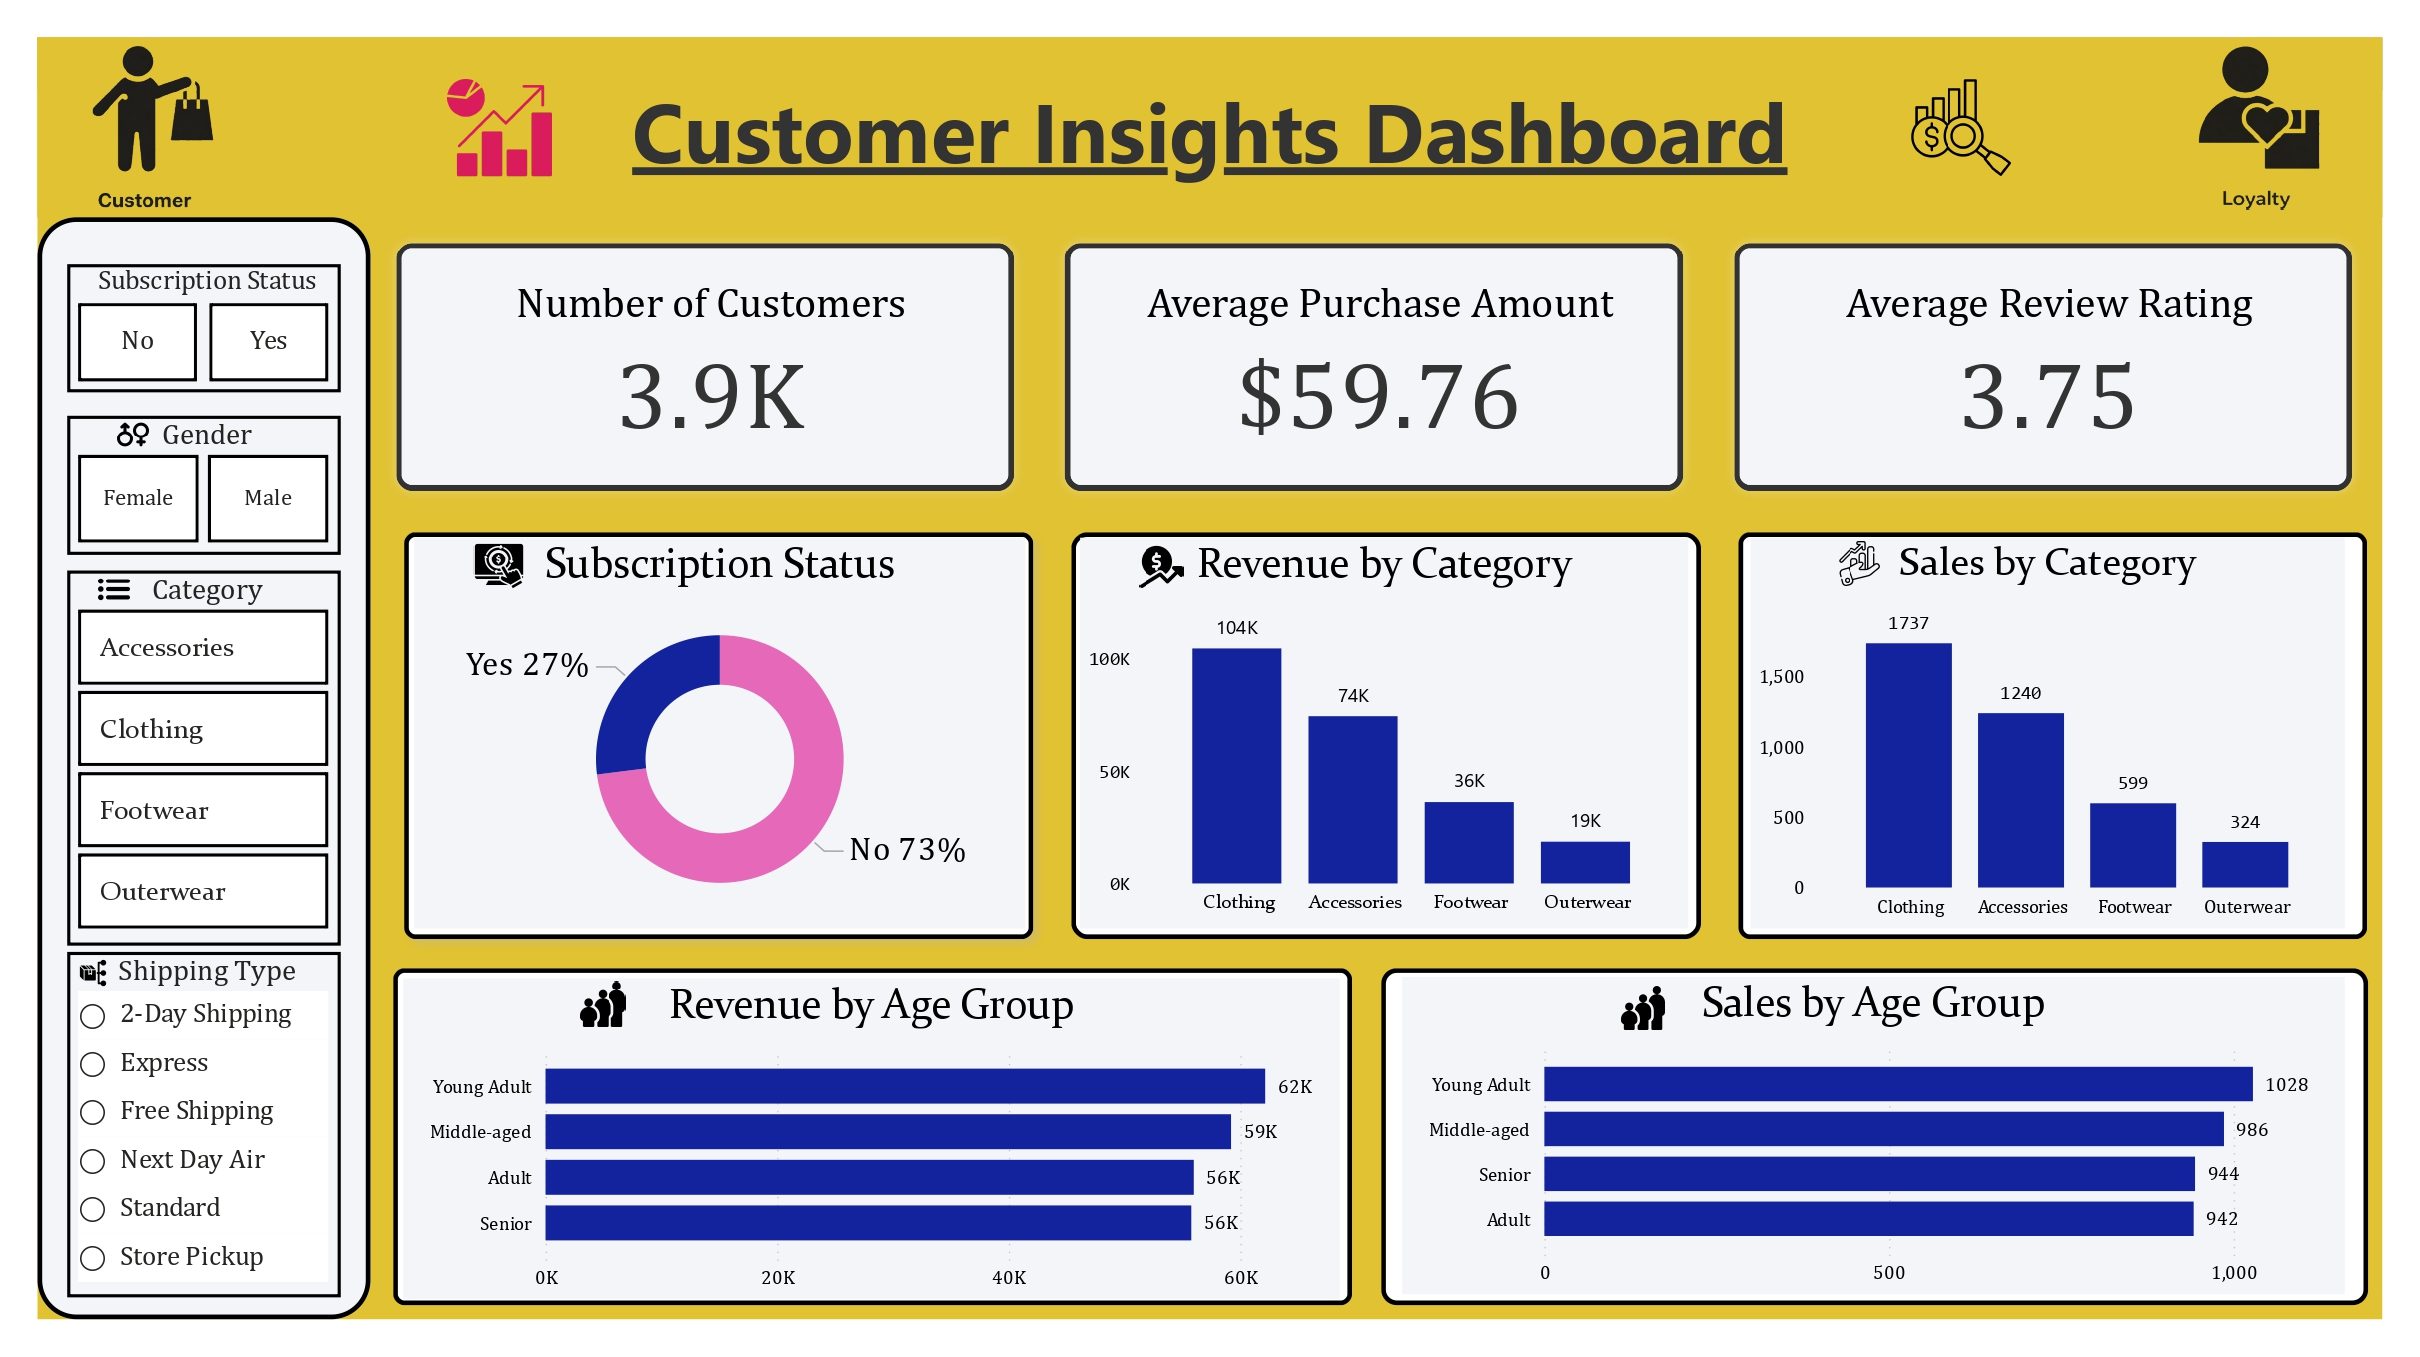

The page's visual inventory and layout, read from the dashboard file:
{"tool":"powerbi","page":{"name":"Customer Insights Dashboard","canvas":[1500,820],"ordinal":0},"visuals":[{"type":"cardVisual","fields":{"Data":["public customer.Number of Customers","public customer.Average Purchase Amount","public customer.Average Review Rating"]},"box":[212.9,115.3,1286.5,191.6],"z":0},{"type":"shape","box":[0,0,1500.4,115.4],"z":1000},{"type":"shape","box":[225.4,307,420.5,278.6],"z":2000},{"type":"shape","box":[218.3,585.6,631.7,234.2],"z":2500,"group":"g1"},{"type":"donutChart","title":"Subscription Status","fields":{"Category":["public customer.subscription_status"],"Y":["CountNonNull(public customer.customer_id)"]},"box":[240.9,320.3,391.3,249.3],"z":3000},{"type":"shape","box":[1078.9,307,420.5,278.6],"z":4000},{"type":"shape","box":[652.1,307,420.5,278.6],"z":5000},{"type":"clusteredColumnChart","title":"Revenue by Category","fields":{"Y":["Sum(public customer.purchase_amount)"],"Category":["public customer.category"]},"box":[667.1,320.3,388.6,249.3],"z":6000},{"type":"clusteredColumnChart","title":"Sales by Category","fields":{"Y":["CountNonNull(public customer.customer_id)"],"Category":["public customer.category"]},"box":[1096,320.3,380.2,249.3],"z":7000},{"type":"shape","box":[0,115.3,212.9,704.5],"z":8000},{"type":"advancedSlicerVisual","fields":{"Values":["public customer.subscription_status"]},"box":[19.5,144.8,174.1,82.2],"z":9000},{"type":"advancedSlicerVisual","fields":{"Values":["public customer.gender"]},"box":[19.5,242.3,174.1,89.1],"z":10000},{"type":"advancedSlicerVisual","fields":{"Values":["public customer.category"]},"box":[19.5,341.2,174.1,239.5],"z":11000},{"type":"listSlicer","fields":{"Values":["public customer.shipping_type"]},"box":[19.5,584.9,174.1,221.4],"z":12000},{"type":"shape","box":[850,585.7,650,234.3],"z":13000},{"type":"clusteredBarChart","title":"Sales by Age Group","fields":{"Y":["CountNonNull(public customer.customer_id)"],"Category":["public customer.age_group"]},"box":[872.9,601.4,602.9,202.9],"z":14000},{"type":"group","id":"g1","title":"Group 1","box":[218.3,585.6,631.7,234.2],"z":15000},{"type":"image","box":[240.5,19.2,109.9,76.9],"z":16000},{"type":"image","box":[1174.8,19.2,109.9,76.9],"z":17000},{"type":"clusteredBarChart","title":"Revenue by Age Group","fields":{"Y":["Sum(public customer.purchase_amount)"],"Category":["public customer.age_group"]},"box":[234.7,601.5,598.8,204.7],"z":17500,"group":"g1"},{"type":"image","box":[27.5,338,44,30.2],"z":18000},{"type":"image","box":[19.2,584,33,28.9],"z":19000},{"type":"image","box":[42.6,239.1,35.7,30.2],"z":20000},{"type":"image","box":[258.3,317.4,72.8,41.2],"z":21000},{"type":"image","box":[331.1,599.1,60.5,38.5],"z":22000},{"type":"image","box":[687,318.8,63.2,38.5],"z":23000},{"type":"image","box":[1140.4,317.4,49.5,38.5],"z":24000},{"type":"image","box":[996.2,601.8,60.5,38.5],"z":25000},{"type":"image","box":[19.2,0,109.9,115.4],"z":26000},{"type":"image","box":[1365.8,0,109.9,115.4],"z":27000}]}

Visuals, with their boxes in screenshot pixels (x1, y1, x2, y2):
cardVisual - public customer.Number of Customers x public customer.Average Purchase Amount: crop(370, 218, 2382, 517)
shape: crop(38, 38, 2382, 218)
shape: crop(390, 517, 1047, 953)
shape: crop(379, 953, 1366, 1319)
"Subscription Status" donutChart: crop(414, 538, 1026, 928)
shape: crop(1724, 517, 2382, 953)
shape: crop(1057, 517, 1714, 953)
"Revenue by Category" clusteredColumnChart: crop(1080, 538, 1688, 928)
"Sales by Category" clusteredColumnChart: crop(1751, 538, 2345, 928)
shape: crop(38, 218, 370, 1319)
advancedSlicerVisual - public customer.subscription_status: crop(68, 264, 340, 392)
advancedSlicerVisual - public customer.gender: crop(68, 416, 340, 556)
advancedSlicerVisual - public customer.category: crop(68, 571, 340, 945)
listSlicer - public customer.shipping_type: crop(68, 952, 340, 1298)
shape: crop(1366, 953, 2382, 1319)
"Sales by Age Group" clusteredBarChart: crop(1402, 978, 2345, 1295)
"Group 1" group: crop(379, 953, 1366, 1319)
image: crop(413, 68, 585, 188)
image: crop(1874, 68, 2046, 188)
"Revenue by Age Group" clusteredBarChart: crop(404, 978, 1341, 1298)
image: crop(81, 566, 149, 613)
image: crop(68, 951, 119, 996)
image: crop(104, 411, 160, 459)
image: crop(441, 534, 555, 598)
image: crop(555, 974, 650, 1034)
image: crop(1112, 536, 1210, 596)
image: crop(1820, 534, 1898, 594)
image: crop(1595, 978, 1689, 1039)
image: crop(68, 38, 239, 218)
image: crop(2173, 38, 2344, 218)
